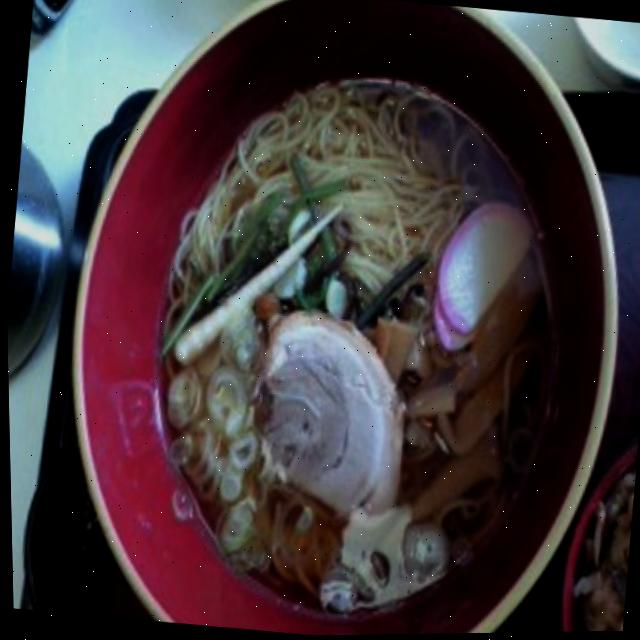面条主食: (43, 0, 640, 639)
